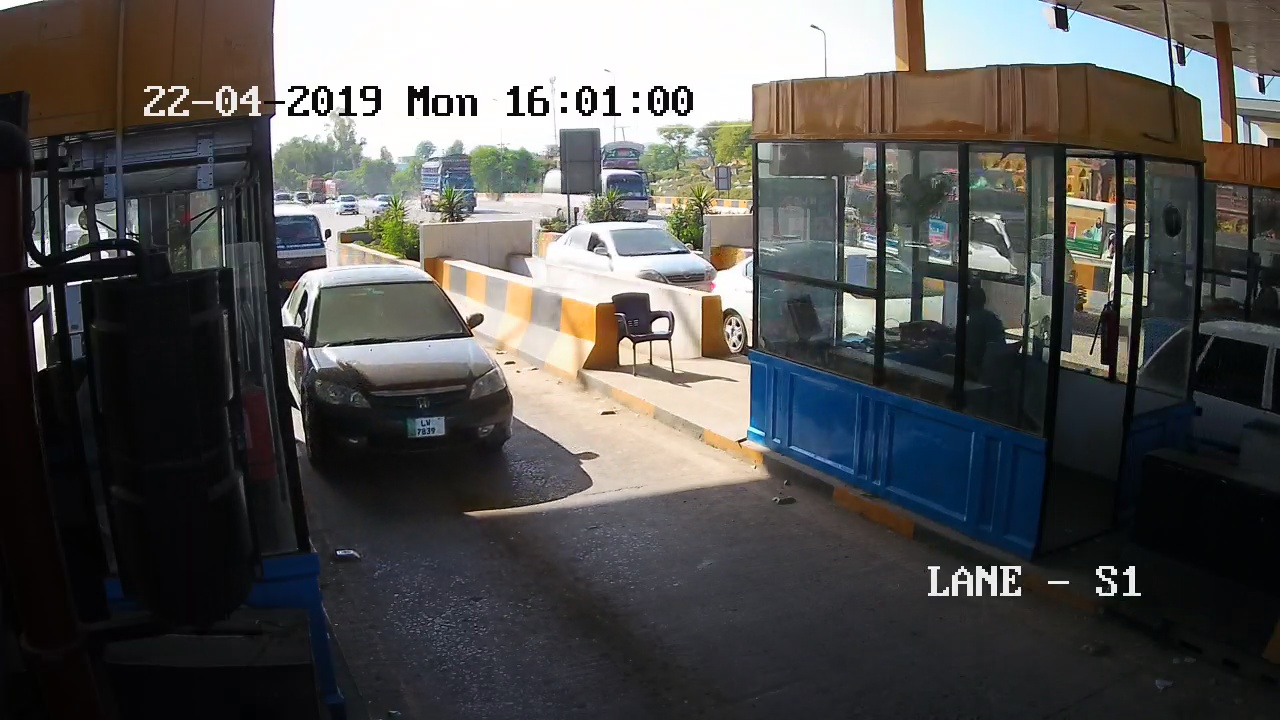car: (273, 254, 534, 500)
